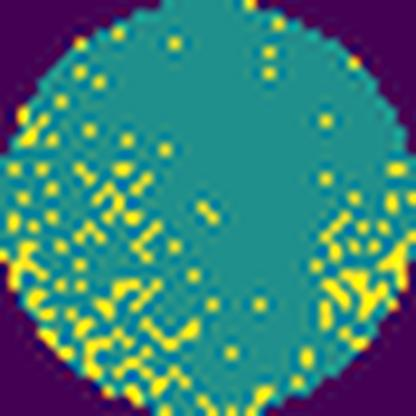Loc: (338, 269, 386, 318), (142, 314, 203, 349), (377, 229, 406, 293)
